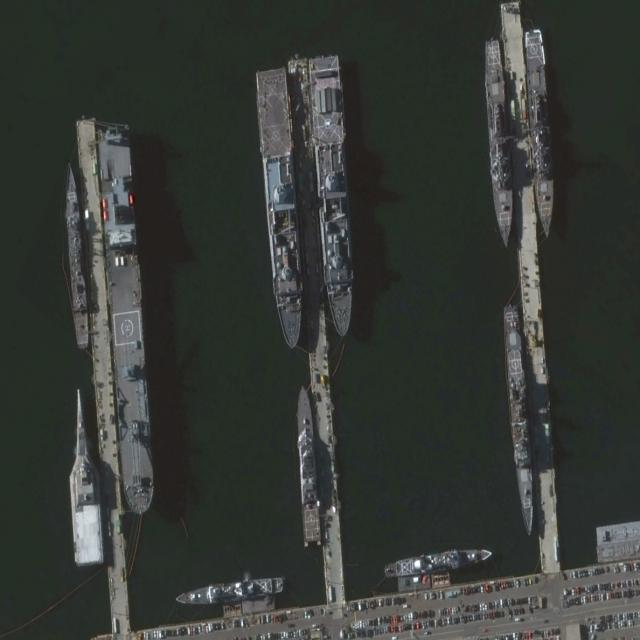Auxiliary Ships: (254, 63, 311, 350), (307, 51, 361, 338)
Cruiser: (500, 300, 540, 538)
Destroyer: (481, 37, 518, 250), (523, 27, 558, 241), (61, 159, 92, 352)
Other Ship: (97, 117, 158, 516), (64, 386, 104, 569), (294, 383, 323, 549), (175, 574, 284, 610), (385, 544, 493, 579)
